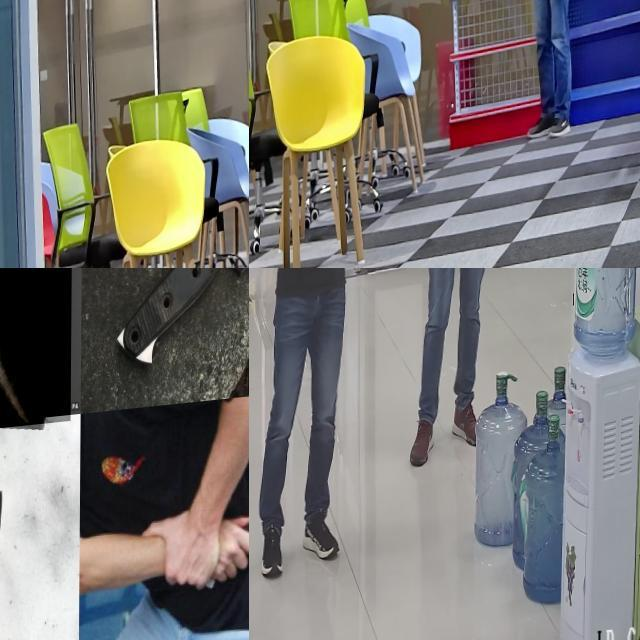-: (0, 268, 113, 445), (0, 485, 57, 638), (220, 463, 249, 593)
gun-knife-thesis - v11 Yolov5 augmented: (274, 268, 322, 301), (472, 0, 495, 16)
